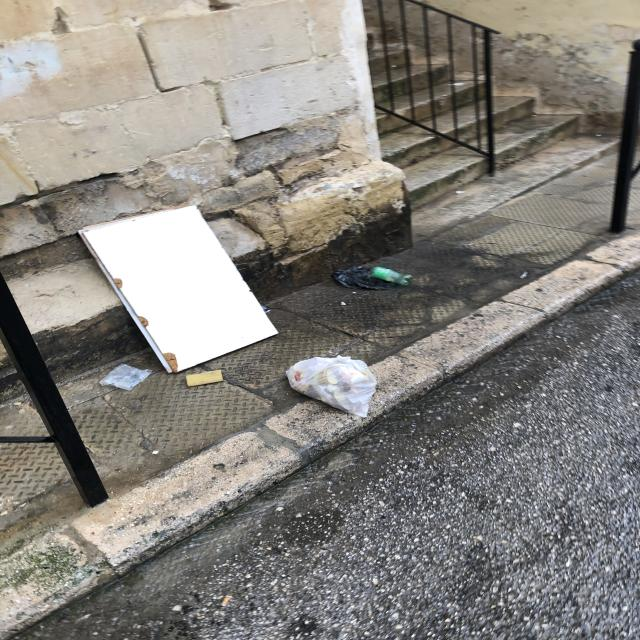Organic Waste -White Bag-: (290, 356, 382, 422)
Other: (80, 205, 278, 374), (355, 260, 415, 290), (101, 365, 153, 392), (185, 367, 225, 388)
